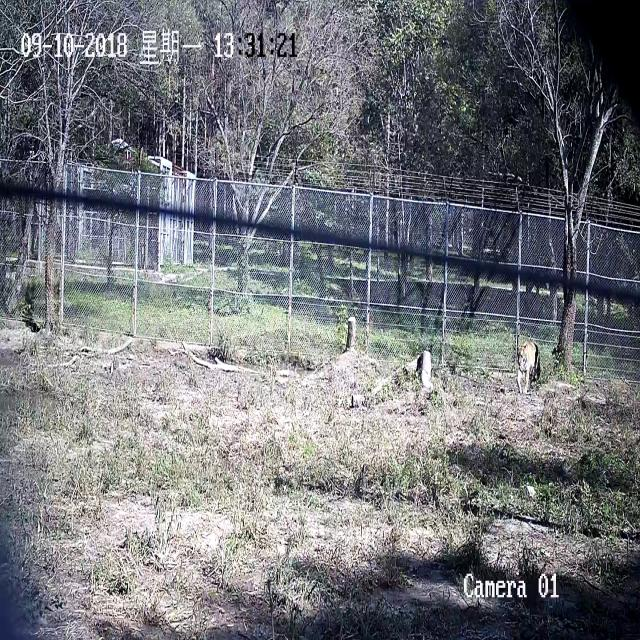Tiger: (480, 294, 582, 435)
